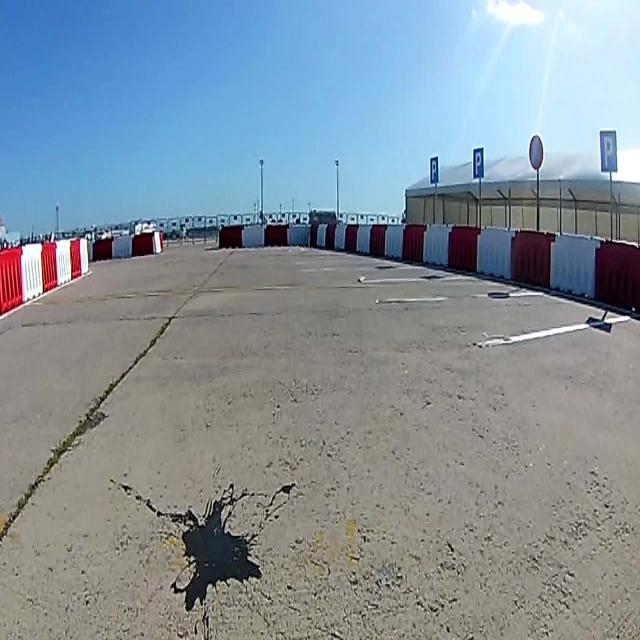park: (600, 129, 618, 173), (472, 146, 484, 178), (429, 156, 438, 185)
parkyasak: (529, 134, 543, 169)
